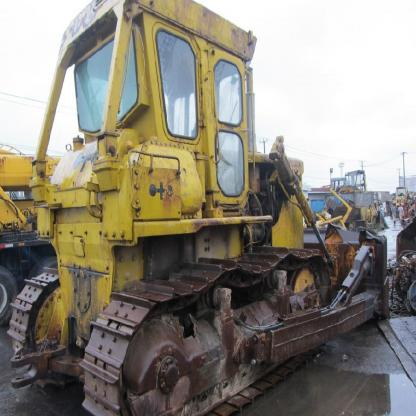bull_dozer/loader/grader: (11, 1, 408, 416)
